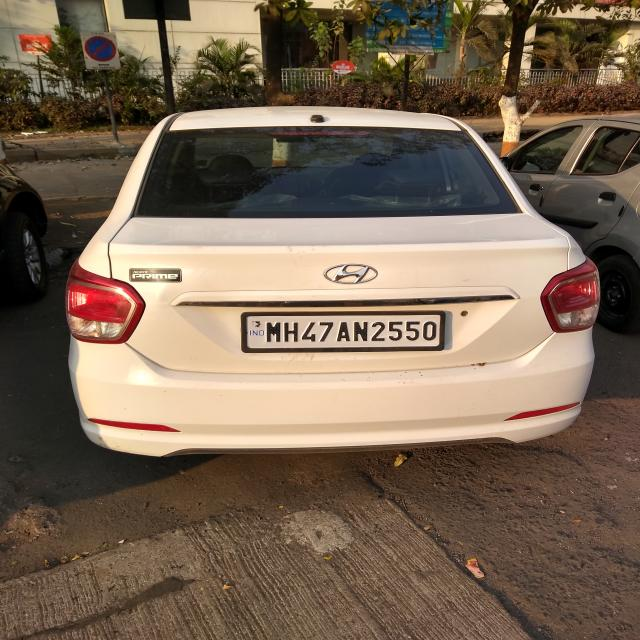Number-Plate: (242, 312, 448, 348)
